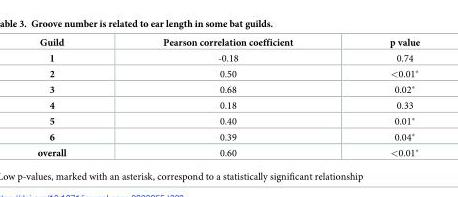table: (36, 37, 419, 158)
table column: (114, 37, 340, 158), (340, 37, 419, 158), (36, 37, 114, 158)
table column header: (36, 37, 419, 49)
table row: (36, 49, 419, 65), (36, 65, 419, 81), (36, 81, 419, 97), (36, 112, 419, 128), (36, 128, 419, 144), (36, 97, 419, 112), (36, 144, 419, 158), (36, 37, 419, 49)
